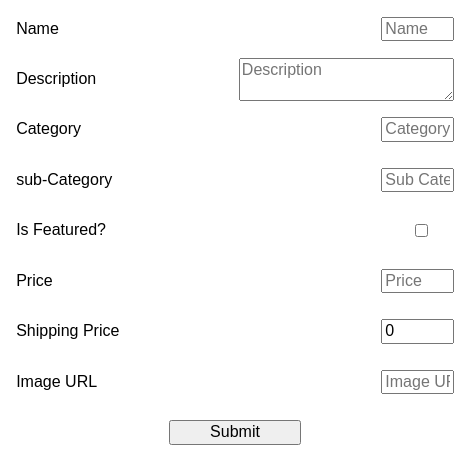
Test: fields display correct input › Name field displays correct input
The width and height of the screenshot is (471, 462).
Click the field with placeholder "Name": (418, 29) left=381, top=16, right=454, bottom=41
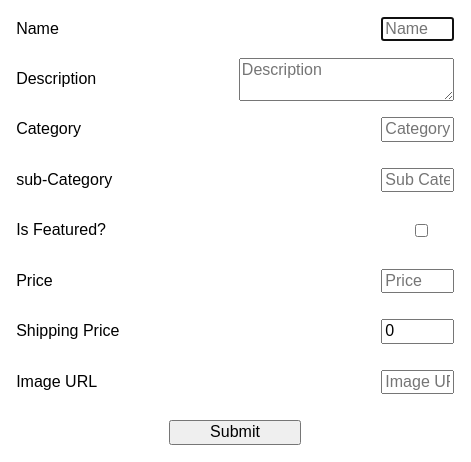
Type keys "test 123"
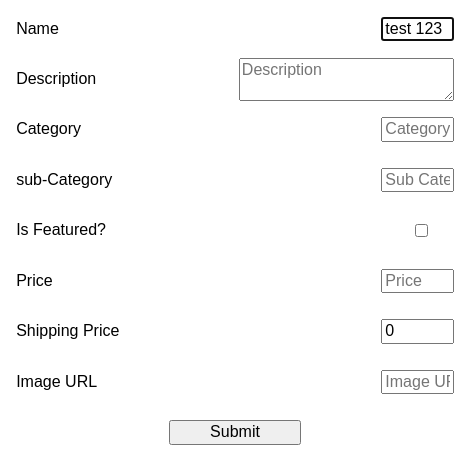
Expected: the field with placeholder "Name" holds "test 123", left=381, top=16, right=454, bottom=41
